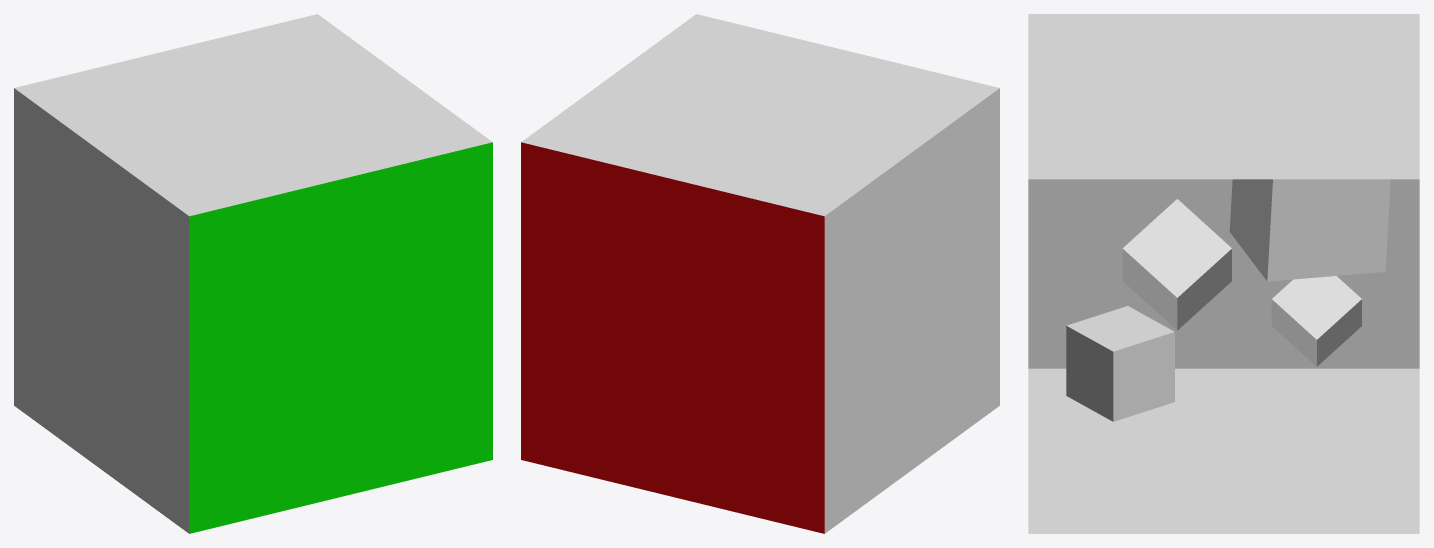
File: cornelbox.gltf
The picture shows the model from 3 angles, left to right: view 1: azimuth 30°, elevation 25°; view 2: azimuth 150°, elevation 25°; view 3: azimuth 270°, elevation 25°; orthographic projection. The views are drawn at different scales.
Visible parts, largest first — view 1: Cube; view 2: Cube; view 3: Cube, Cube.003, Cube.001, Cube.004, Cube.002.
Boxes of the visible parts, x1,y1,x2,y2 form: Cube: [14, 14, 492, 533]; Cube: [521, 14, 999, 533]; Cube: [1028, 14, 1419, 533]; Cube.003: [1229, 179, 1390, 281]; Cube.001: [1066, 306, 1174, 421]; Cube.004: [1122, 199, 1231, 330]; Cube.002: [1271, 276, 1361, 366].
Bounding box in the file's own units: 2 × 2 × 2.
